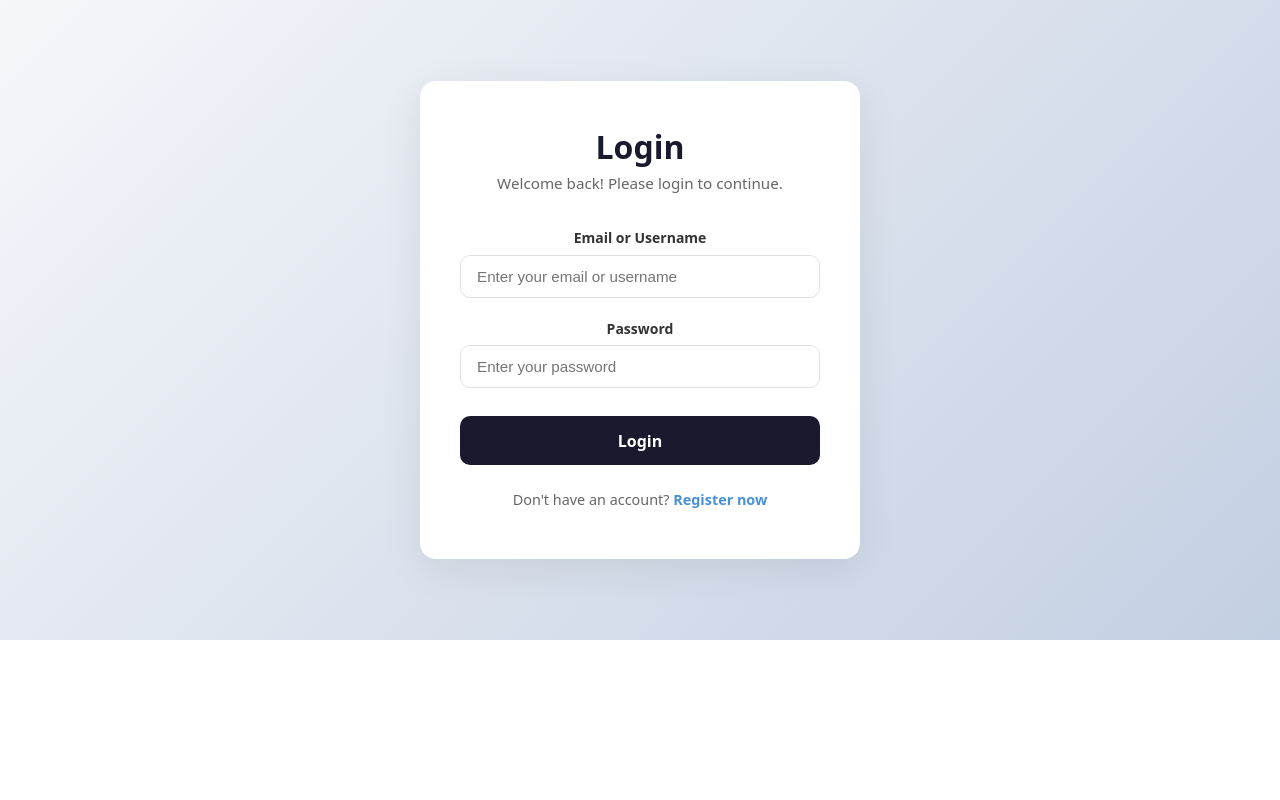
Test: Login page › should display error message on login failure
The width and height of the screenshot is (1280, 800).
Type "bad" into the field with placeholder "Enter your email or username" at (640, 276), box [460,255,820,298]
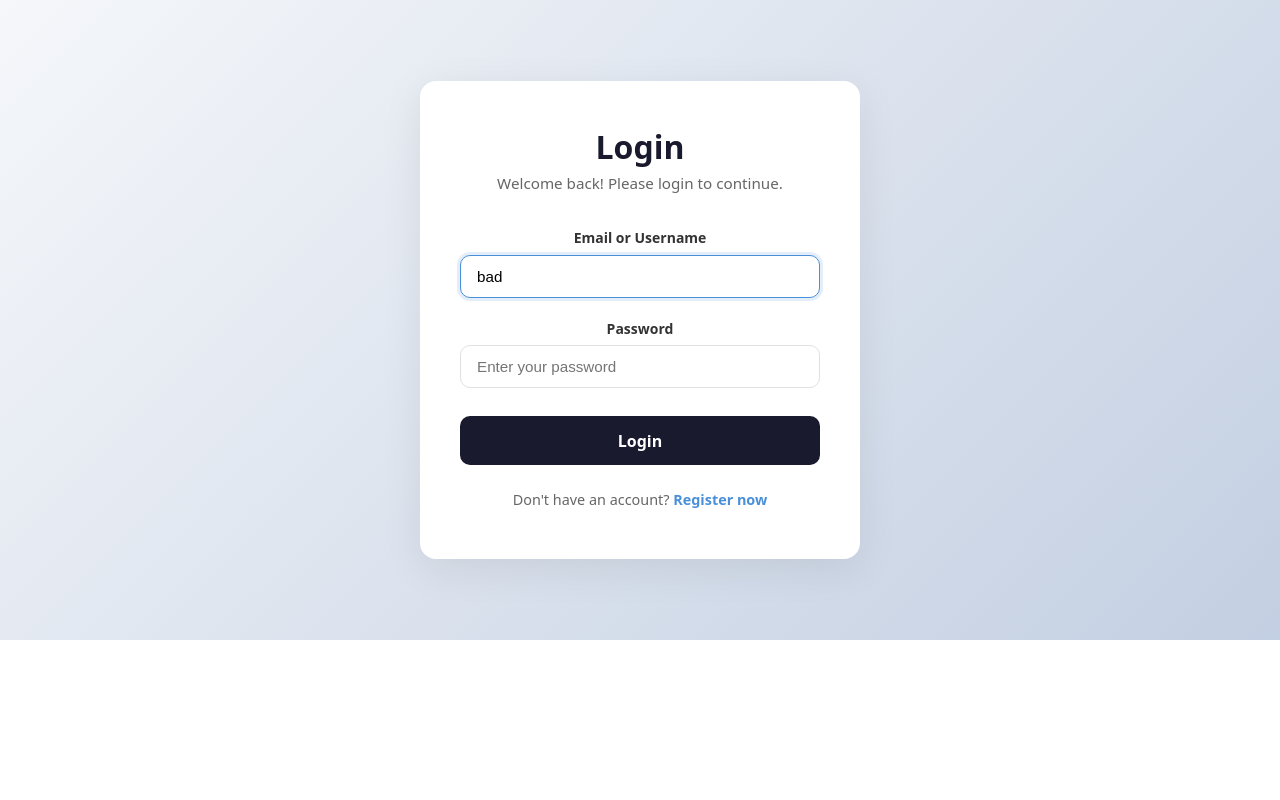
Type "creds" into the password field with placeholder "Enter your password" at (640, 366), box [460,345,820,388]
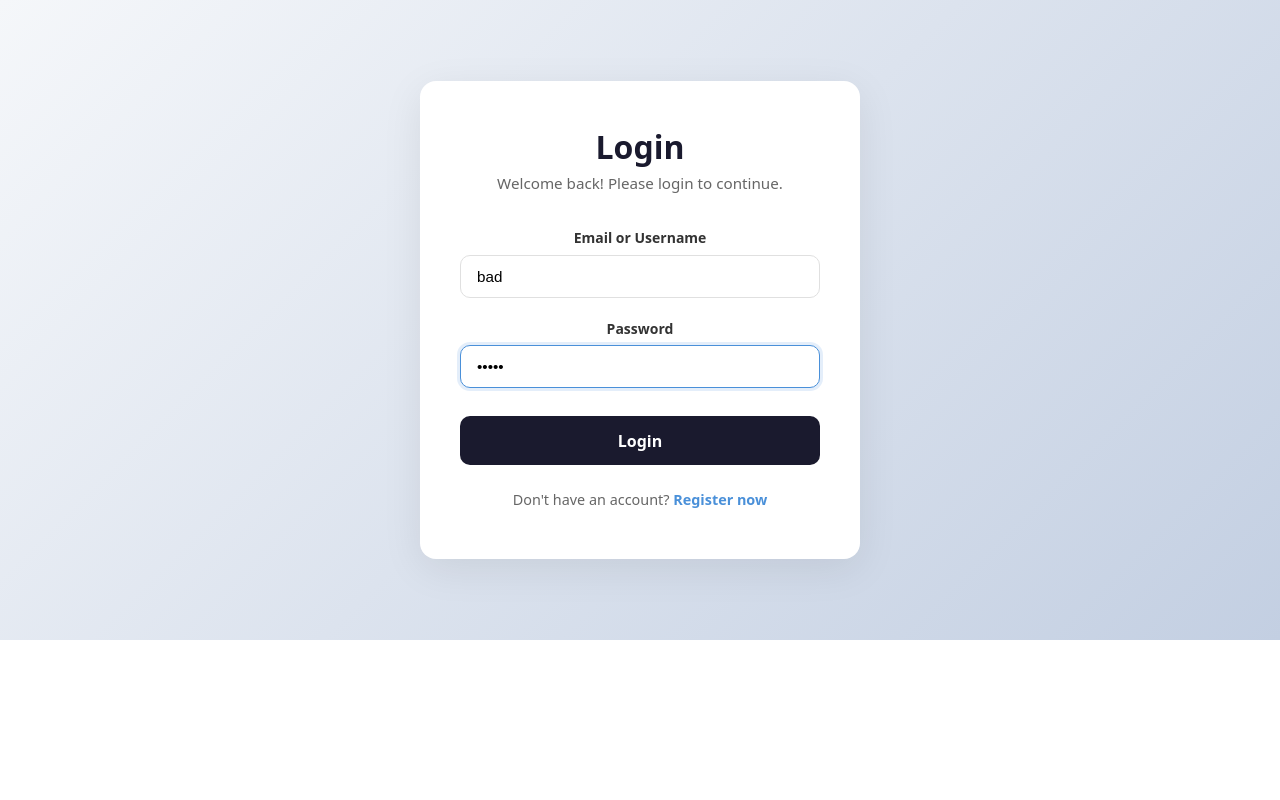
Click the button "Login" at (640, 441), box [460,416,820,465]
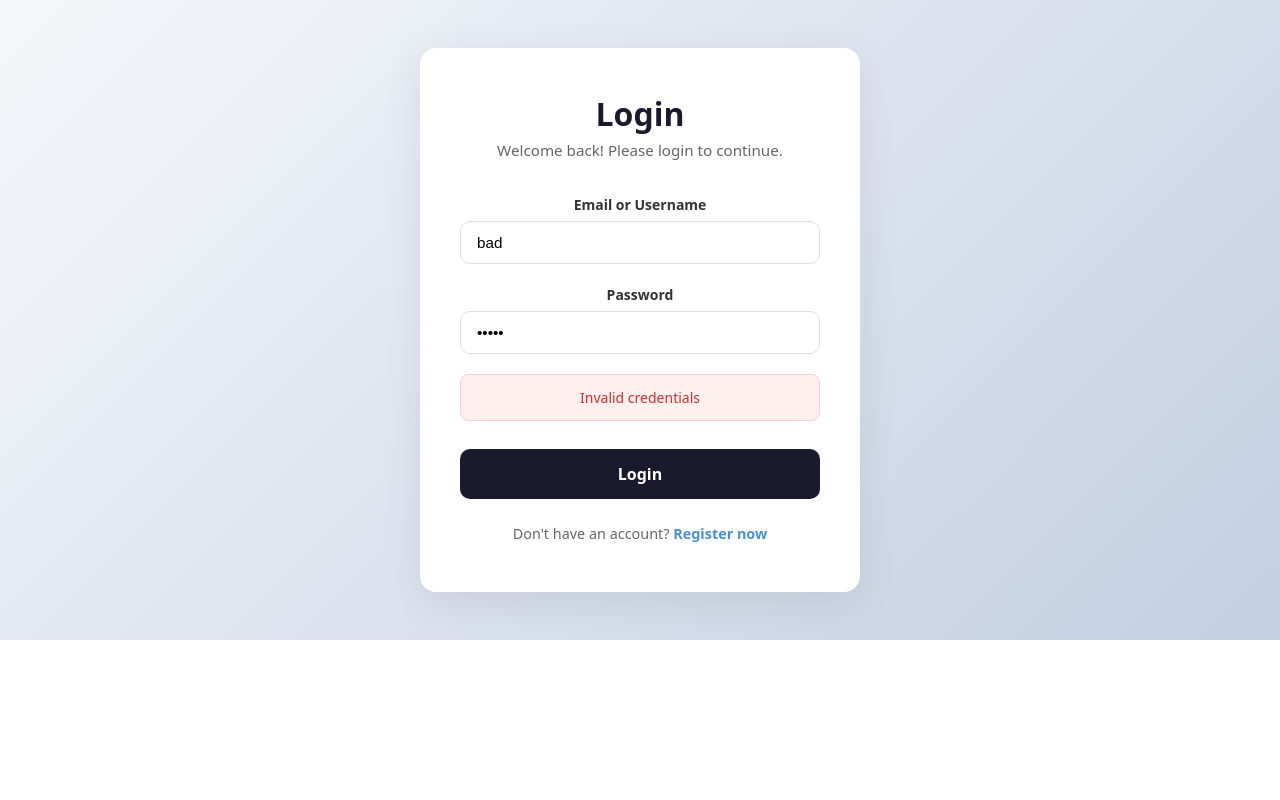
Result: the text "Invalid credentials" is shown at [460,374,820,422]
